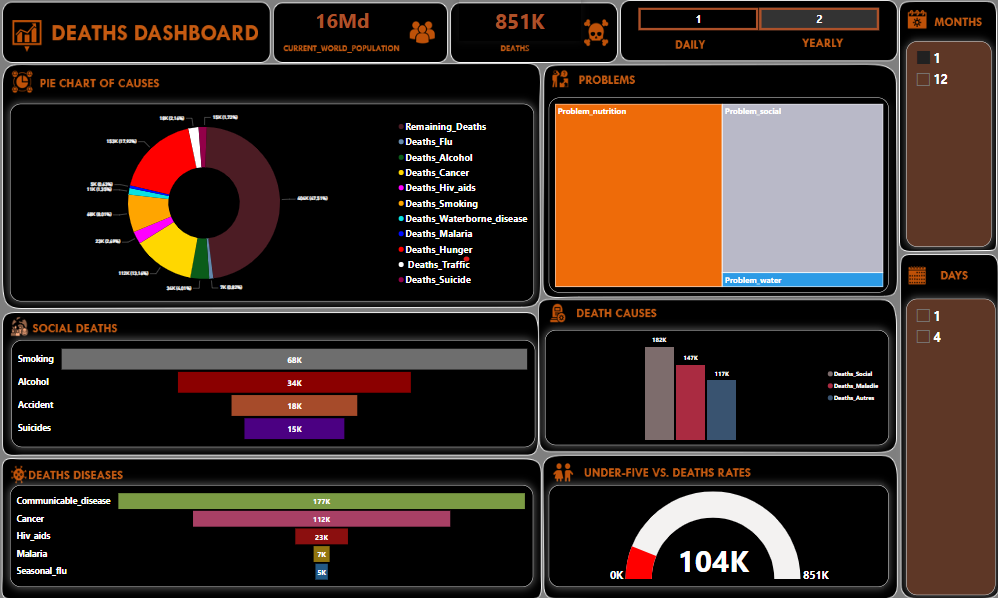

The page's visual inventory and layout, read from the dashboard file:
{"tool":"powerbi","page":{"name":"Page 1","canvas":[2000,1200],"ordinal":0},"visuals":[{"type":"slicer","fields":{"Values":["dime_date.day"]},"box":[1812,598,178,593],"z":0},{"type":"slicer","fields":{"Values":["dime_date.month"]},"box":[1812,82,170,411],"z":1000},{"type":"slicer","fields":{"Values":["dime_metric_type.metric_type_id"]},"box":[1258,16,520,52],"z":2000},{"type":"card","fields":{"Values":["Sum(fact_meetrics.current_world_population)"]},"box":[564,0,258,82],"z":3000},{"type":"card","fields":{"Values":["Sum(fact_meetrics.deaths)"]},"box":[918,0,244,82],"z":4000},{"type":"treemap","title":"Problems","fields":{"Values":["Sum(fact_meetrics.problem_social)","Sum(fact_meetrics.deaths_due_to_water_related_diseases)","Sum(fact_meetrics.people_died_of_hunger)"]},"box":[1098,194,680,390],"z":5000},{"type":"gauge","title":"Under-Five vs. deaths Rates","fields":{"Y":["Sum(fact_meetrics.deaths_of_children_under_5)"],"MaxValue":["Sum(fact_meetrics.deaths)"]},"box":[1098,970,680,204],"z":6000},{"type":"funnel","title":"Deaths diseases","fields":{"Y":["Sum(fact_meetrics.communicable_disease_deaths)","Sum(fact_meetrics.deaths_due_to_cancer)","Sum(fact_meetrics.deaths_due_to_hiv_aids)","Sum(fact_meetrics.seasonal_flu_deaths)","Sum(fact_meetrics.deaths_due_to_malaria)"]},"box":[20,970,1046,204],"z":7000},{"type":"funnel","title":"Social deaths","fields":{"Y":["Sum(fact_meetrics.deaths_due_to_smoking)","Sum(fact_meetrics.deaths_due_to_alcohol)","Sum(fact_meetrics.road_traffic_accident_fatalities)","Sum(fact_meetrics.suicides)"]},"box":[22,679,1048,214],"z":8000},{"type":"pieChart","title":"pie_chart des causes","fields":{"Y":["Sum(fact_meetrics.RemainingDeaths)","Sum(fact_meetrics.seasonal_flu_deaths)","Sum(fact_meetrics.deaths_due_to_alcohol)","Sum(fact_meetrics.deaths_due_to_cancer)","Sum(fact_meetrics.deaths_due_to_hiv_aids)","Sum(fact_meetrics.deaths_due_to_smoking)","Sum(fact_meetrics.deaths_due_to_water_related_diseases)","Sum(fact_meetrics.deaths_due_to_malaria)","Sum(fact_meetrics.people_died_of_hunger)","Sum(fact_meetrics.road_traffic_accident_fatalities)","Sum(fact_meetrics.suicides)"]},"box":[20,208.3,1048.3,395],"z":9000},{"type":"lineClusteredColumnComboChart","title":"Death causes","fields":{"Y":["Sum(fact_meetrics.Deaths_Social)","Sum(fact_meetrics.Deaths_Maladie)","Sum(fact_meetrics.Deaths_Autres)"]},"box":[1090,660,688,230],"z":10000}]}

Visuals, with their boxes in screenshot pixels (x1, y1, x2, y2), scaled from the page's 2000x1200 canvas onto the 998x598 screenshot:
slicer - dime_date.day: bbox=(904, 298, 993, 594)
slicer - dime_date.month: bbox=(904, 41, 989, 246)
slicer - dime_metric_type.metric_type_id: bbox=(628, 8, 887, 34)
card - Sum(fact_meetrics.current_world_population): bbox=(281, 0, 410, 41)
card - Sum(fact_meetrics.deaths): bbox=(458, 0, 580, 41)
"Problems" treemap: bbox=(548, 97, 887, 291)
"Under-Five vs. deaths Rates" gauge: bbox=(548, 483, 887, 585)
"Deaths diseases" funnel: bbox=(10, 483, 532, 585)
"Social deaths" funnel: bbox=(11, 338, 534, 445)
"pie_chart des causes" pieChart: bbox=(10, 104, 533, 301)
"Death causes" lineClusteredColumnComboChart: bbox=(544, 329, 887, 444)
